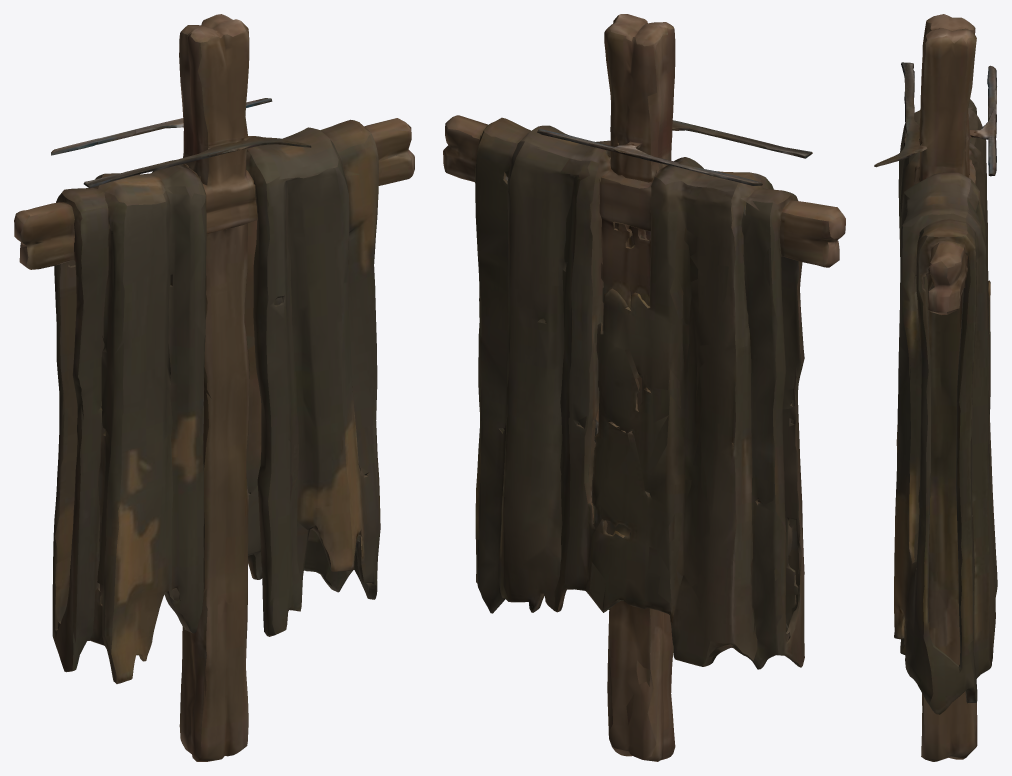
Rendered from cloak_cross.glb.
3 views of the same model, side by side, from view 1: azimuth 30°, elevation 25°; view 2: azimuth 150°, elevation 25°; view 3: azimuth 270°, elevation 25° (orthographic).
Visible parts, largest first — view 1: geometry_0; view 2: geometry_0; view 3: geometry_0.
Boxes of the visible parts, x1,y1,x2,y2 form: geometry_0: (14,14,414,761); geometry_0: (443,14,845,761); geometry_0: (874,14,997,761).
Size of the model in its own units: 1.13 by 2 by 0.3049.
Materials: 1 (1 with a texture image).
